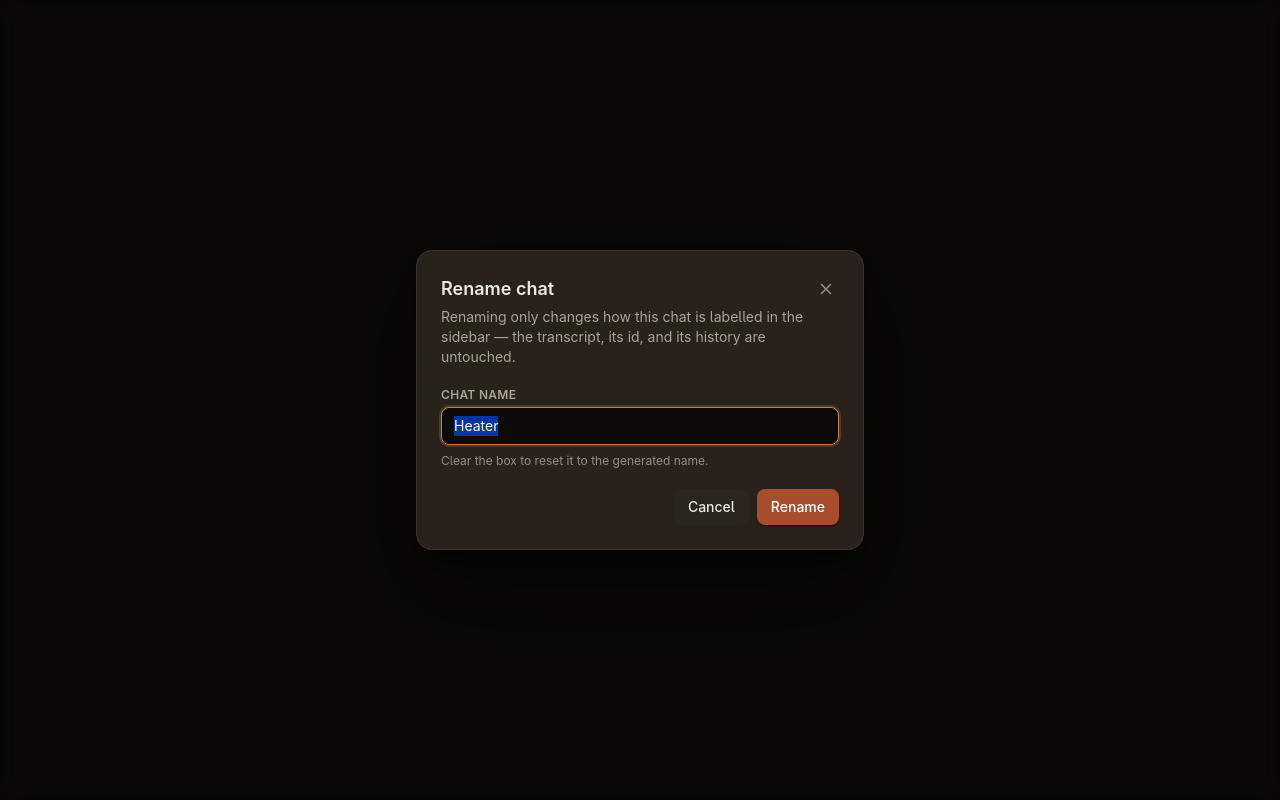
Test: RenameChatModal › advertises the reset — naming the fallback and relabelling the button
Expected: the button "Rename" is shown, [757,489,839,525]
Clear the field showing "Heater" at (640, 426), box [441,407,839,445]
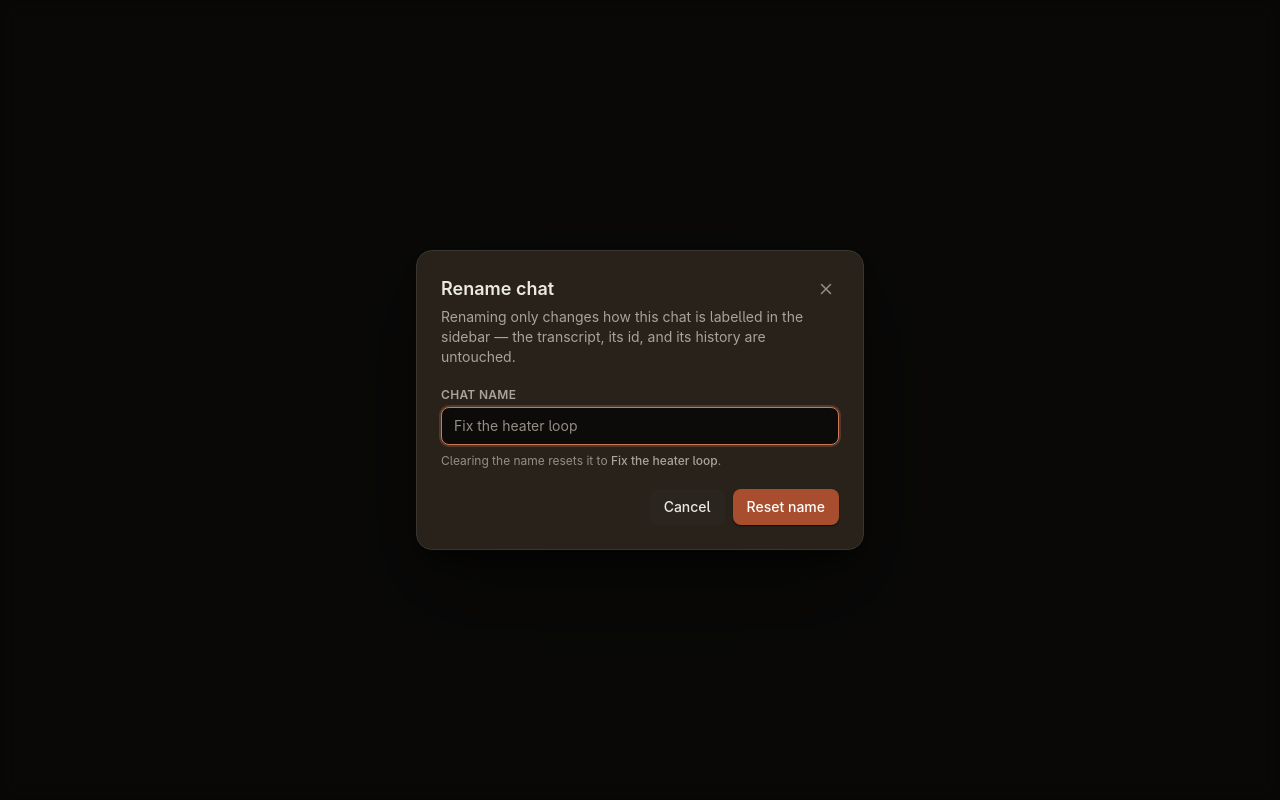
Expected: the element with test id "rename-hint" shows "Fix the heater loop", [611,453,718,468]
Expected: the button "Reset name" is shown, [733,489,839,525]
